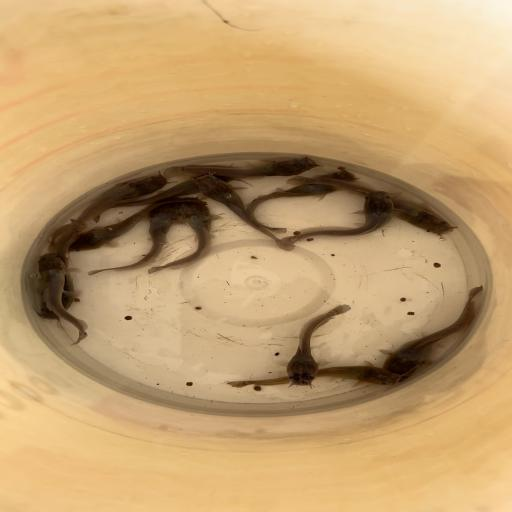lele: (280, 172, 454, 236), (380, 285, 485, 382), (44, 173, 169, 252), (191, 174, 297, 252), (86, 196, 183, 278), (67, 199, 206, 253), (245, 169, 359, 233), (35, 225, 105, 322), (278, 190, 396, 244), (109, 168, 234, 212), (286, 304, 351, 388), (35, 252, 93, 346), (148, 196, 214, 274), (224, 364, 402, 392), (164, 157, 318, 182)
